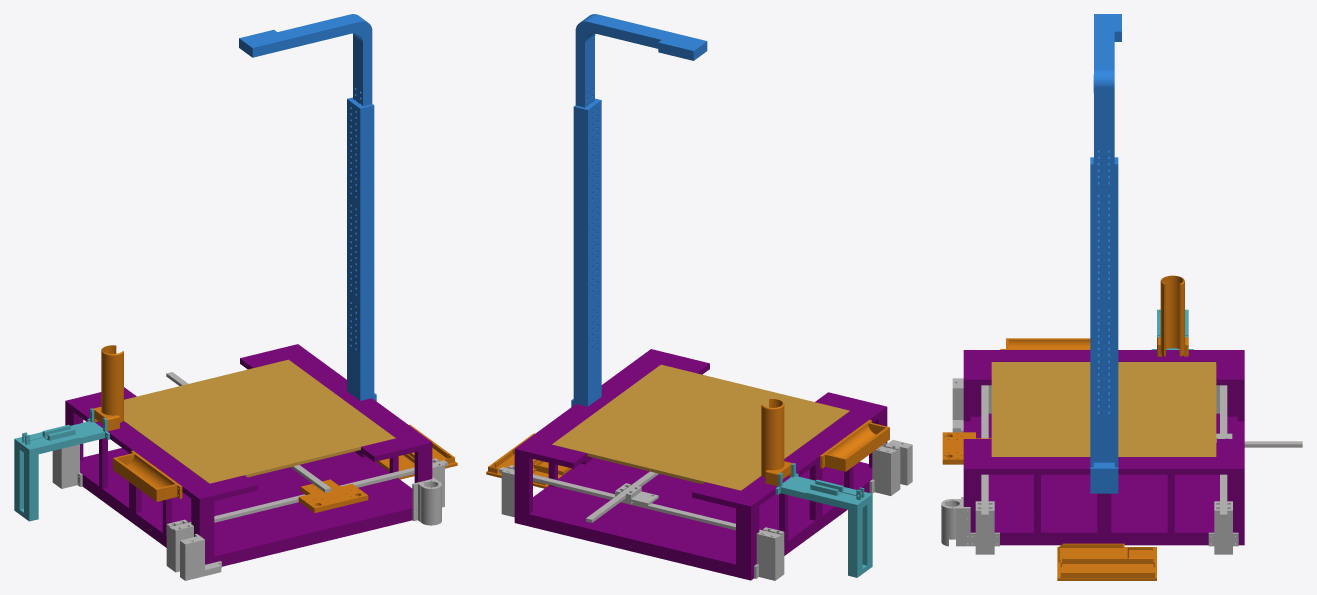
The model's file is SDbase_FINAL.glb.
3 renders of one model, left to right at view 1: azimuth 30°, elevation 25°; view 2: azimuth 150°, elevation 25°; view 3: azimuth 270°, elevation 25°, orthographic. The views are drawn at different scales.
Parts seen in each view (by area): view 1: Solid1 (×26), Solid3 (×2); view 2: Solid1 (×25), Solid3 (×3); view 3: Solid1 (×27), Solid3 (×2).
Part boxes in pixels (x1,y1,x2,y2): Solid1 (×26): (14, 14, 457, 580); Solid3 (×2): (52, 444, 193, 572); Solid1 (×25): (486, 14, 912, 580); Solid3 (×3): (501, 443, 900, 580); Solid1 (×27): (941, 14, 1244, 580); Solid3 (×2): (970, 501, 1238, 554).
Size of the model in its own units: 0.8309 by 0.9398 by 0.6533.
